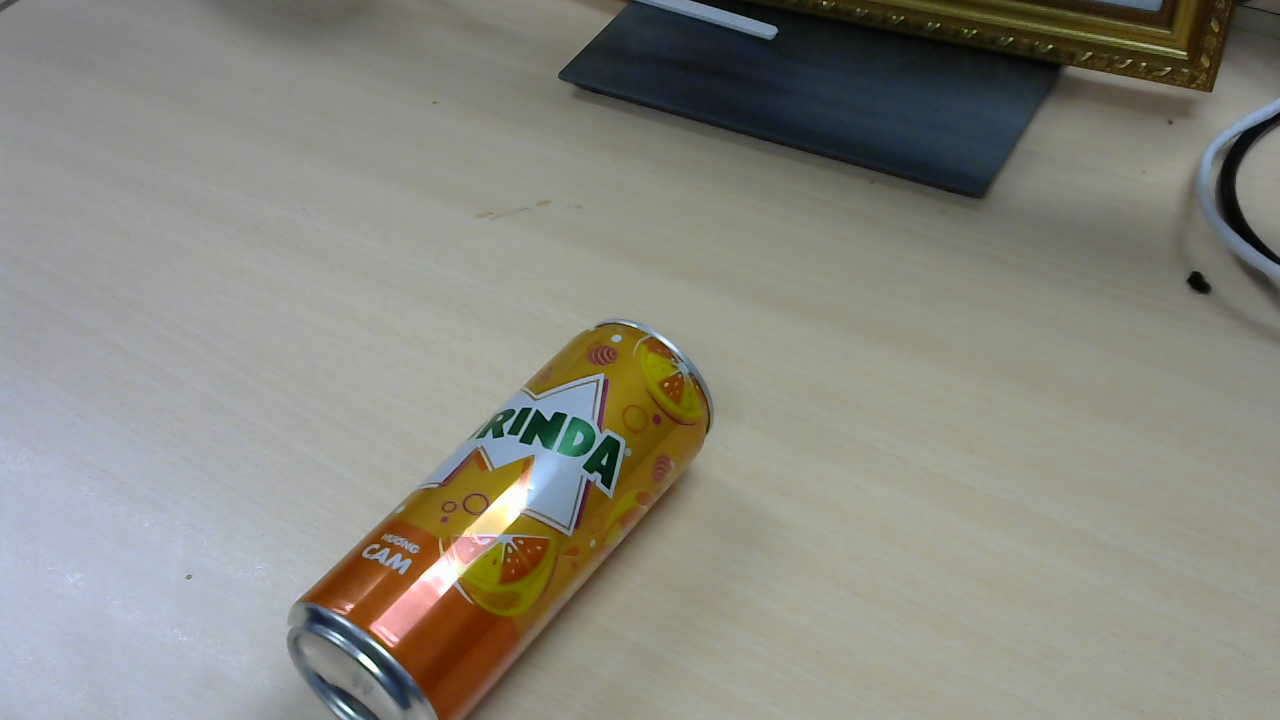Mirinda: (293, 325, 718, 698)
